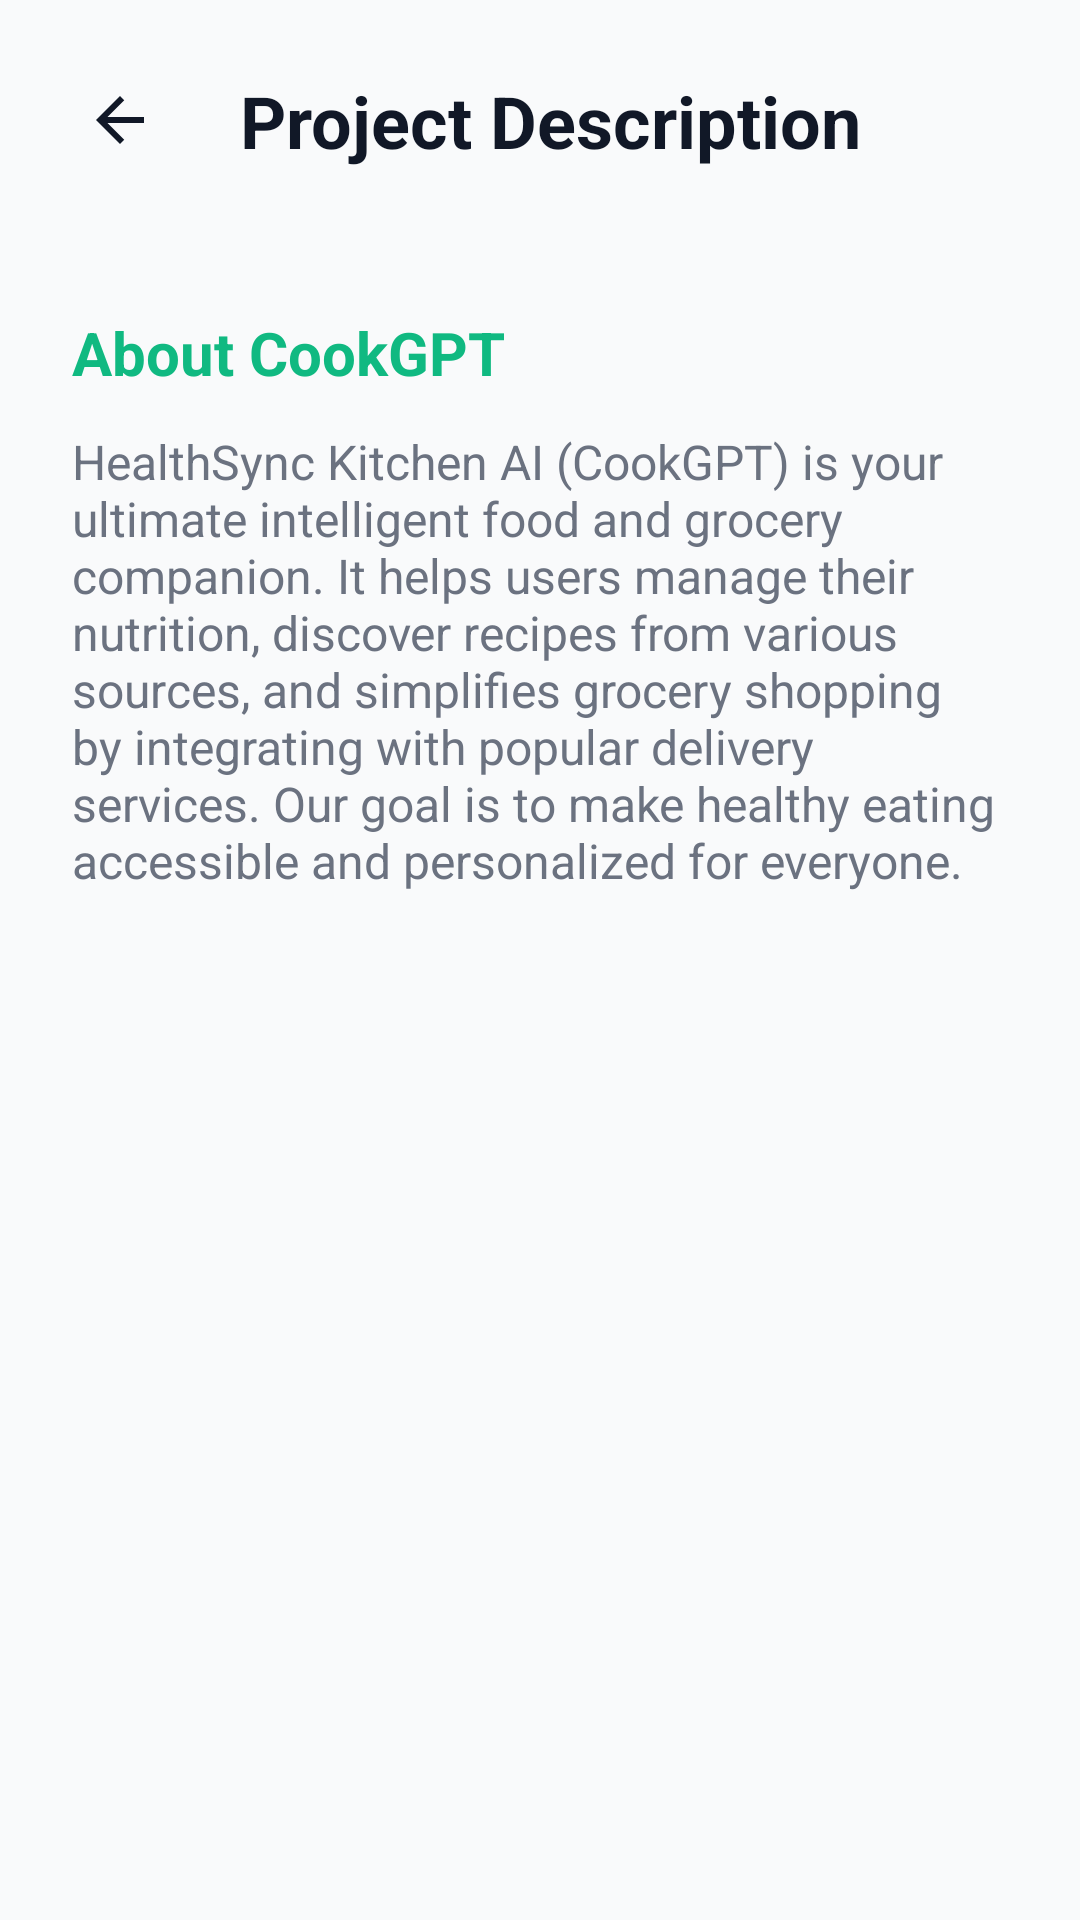

Screen size 1080px×1920px. Icon name, then its center in pixels as (x,y):
arrow back: (120,120)
